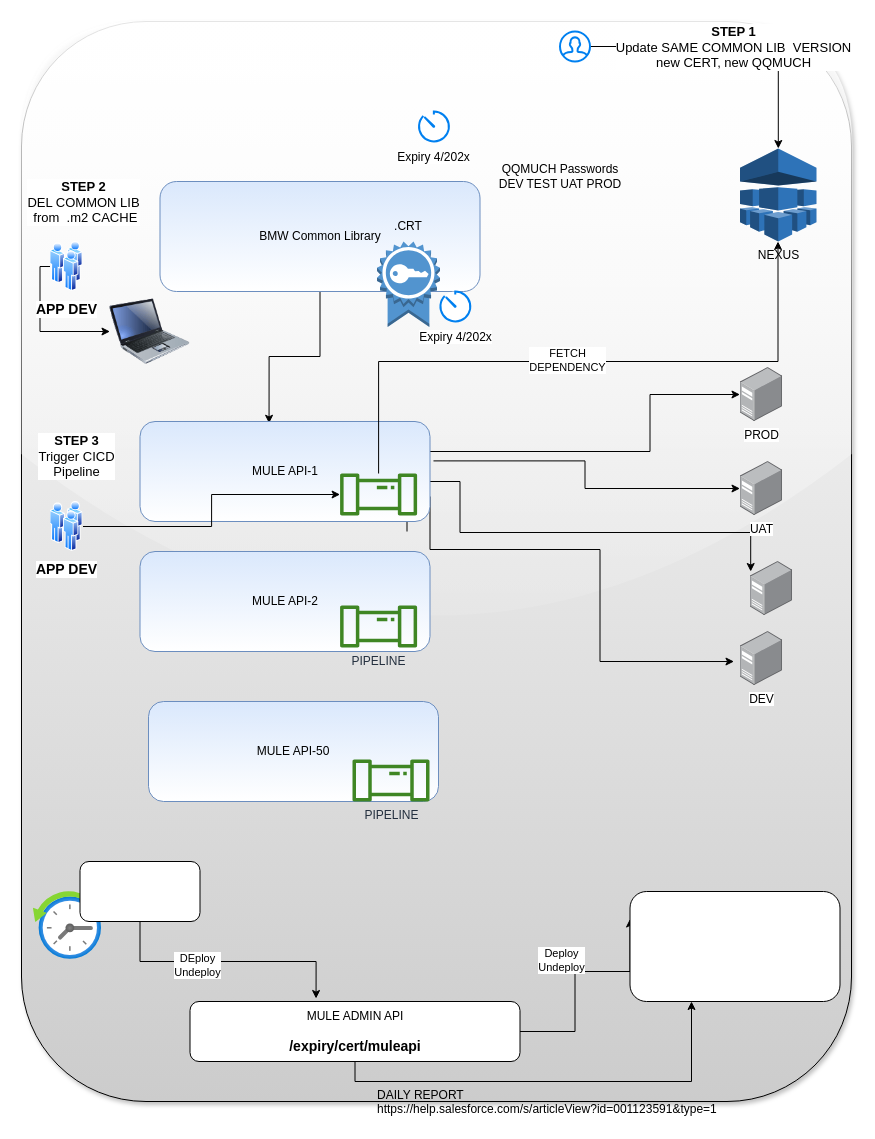
Some shapes in this 875 by 1139 pixel diagram are drawn without their labels. The centre of each missing label's shape, as x and y in pixels:
ANYPOINT PLATFORM: (x=734, y=946)
CICD PIPELINE: (x=378, y=494)
EVERY DAY: (x=66, y=925)
MULE MGMT API: (x=139, y=891)
SA Team: (x=574, y=46)
TEST: (x=771, y=588)
